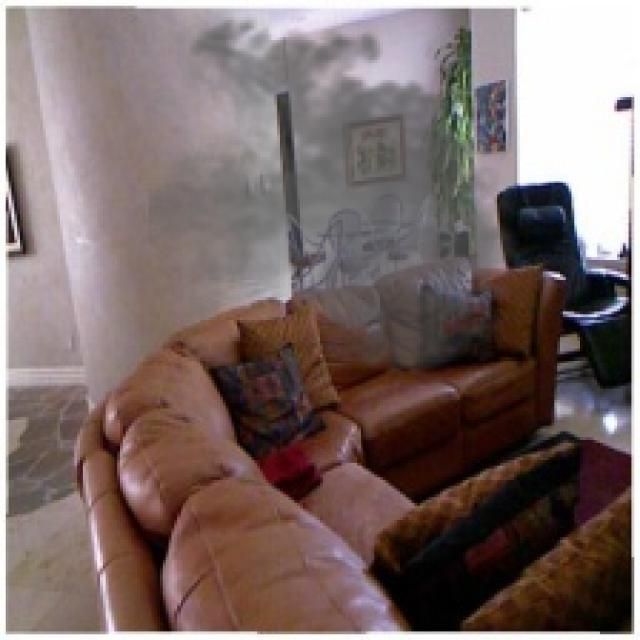Smoke: (148, 6, 532, 380)
